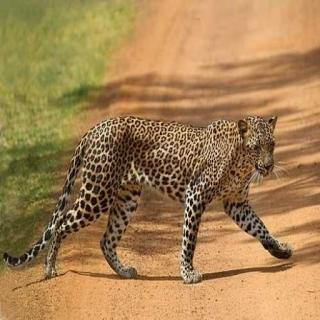Leopard: (63, 86, 320, 279)
